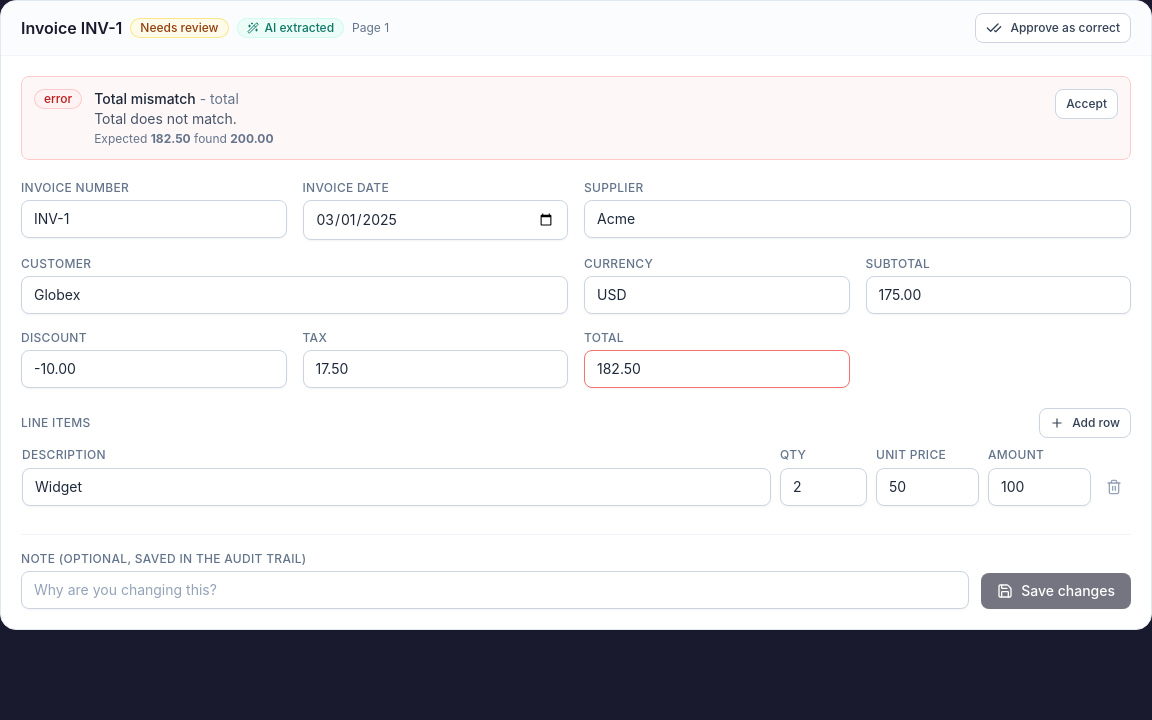
<InvoiceEditor> › blocks saving an invalid currency and explains why
This screenshot has width=1152, height=720.
Step 1. Replace the text in the field labelled "Currency" with "XX" → (717, 295), box 584,276 -> 850,314
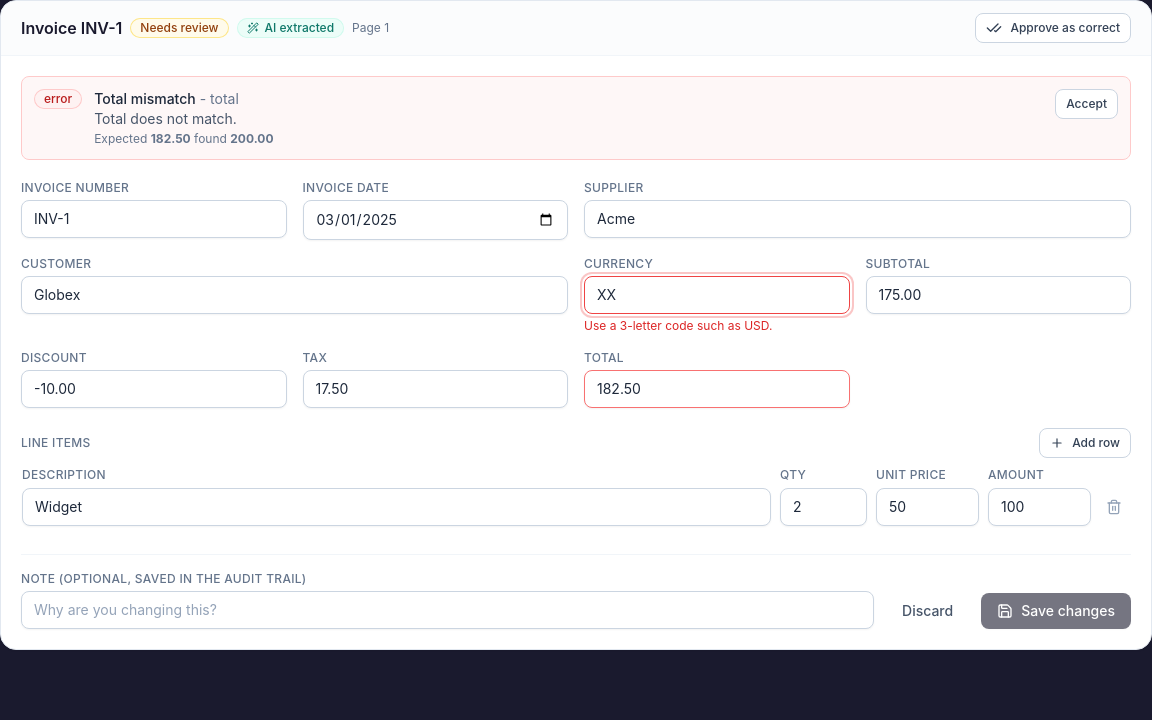
Check: the text "Use a 3-letter code such as USD." is shown, box 584,318 -> 772,333
Check: the button "Save changes" is disabled, box 981,593 -> 1131,629
